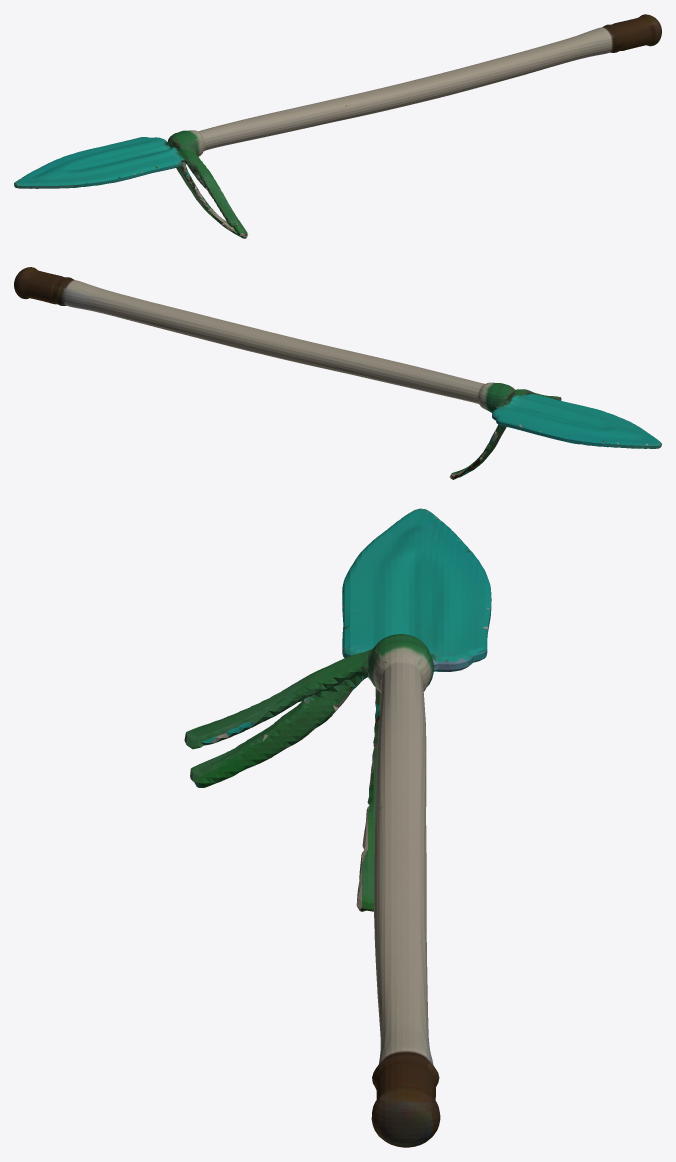
File: tala_spear.glb
The picture shows the model from 3 angles, top to bottom: view 1: azimuth 30°, elevation 25°; view 2: azimuth 150°, elevation 25°; view 3: azimuth 270°, elevation 25°; orthographic projection. The views are drawn at different scales.
Visible parts, largest first — view 1: tmpogg6fo29.ply; view 2: tmpogg6fo29.ply; view 3: tmpogg6fo29.ply.
Part boxes in pixels (x1,y1,x2,y2): tmpogg6fo29.ply: (14, 14, 661, 238); tmpogg6fo29.ply: (14, 267, 661, 479); tmpogg6fo29.ply: (184, 508, 491, 1147).
Size of the model in its own units: 1.99 by 0.3367 by 0.4131.
Materials: 1 (1 with a texture image).
